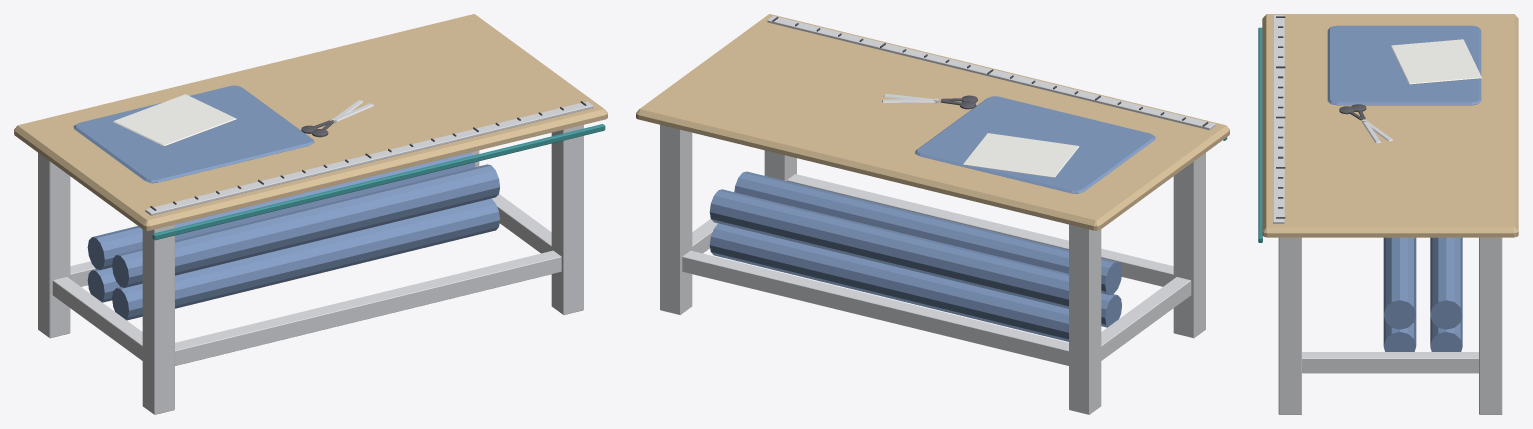
The model's file is dry-cleaners-and-alterations-shop-cutting-table-b3cf21e8__34969.glb.
3 views of the same model, side by side, from view 1: azimuth 30°, elevation 25°; view 2: azimuth 150°, elevation 25°; view 3: azimuth 270°, elevation 25° (orthographic). The views are drawn at different scales.
Visible parts, largest first — view 1: cutting-table; view 2: cutting-table; view 3: cutting-table.
Boxes of the visible parts, bbox=[...] form: cutting-table: bbox=[14, 14, 607, 414]; cutting-table: bbox=[636, 14, 1229, 414]; cutting-table: bbox=[1258, 14, 1518, 414].
Size of the model in its own units: 2.2 by 0.953 by 1.12.
